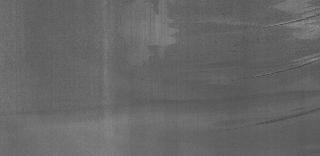scratches: (246, 104, 320, 136), (253, 52, 319, 80), (262, 9, 320, 27)
